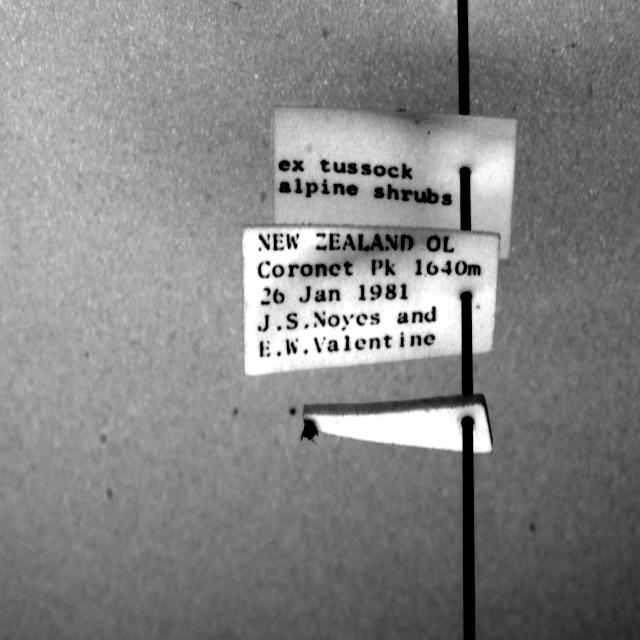typed_label: (242, 227, 499, 375), (274, 107, 516, 259)
